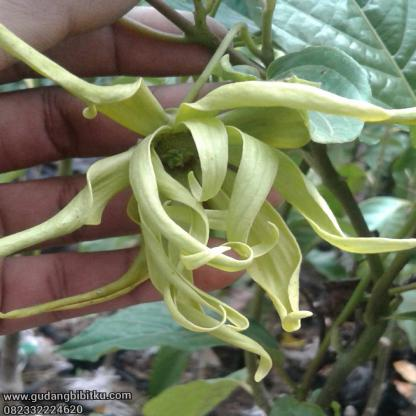Kenanga: (88, 103, 355, 325)
